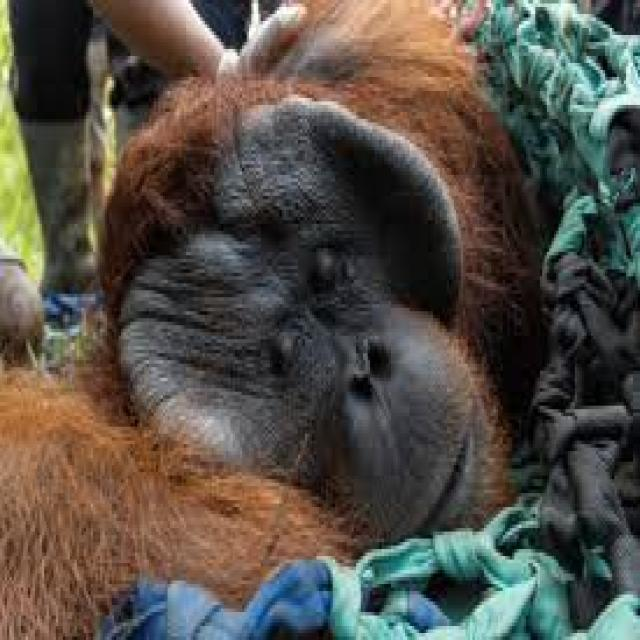Orangutan: (0, 0, 519, 577)
